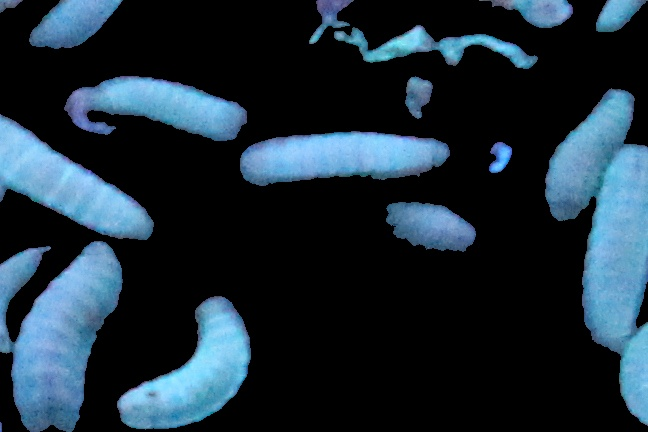larvae: (1, 105, 156, 243), (12, 240, 123, 432), (120, 293, 252, 426), (580, 145, 648, 353), (236, 132, 452, 189), (545, 86, 634, 224), (86, 77, 246, 142), (365, 202, 485, 262), (23, 1, 124, 52), (1, 246, 47, 357), (616, 324, 648, 430)
